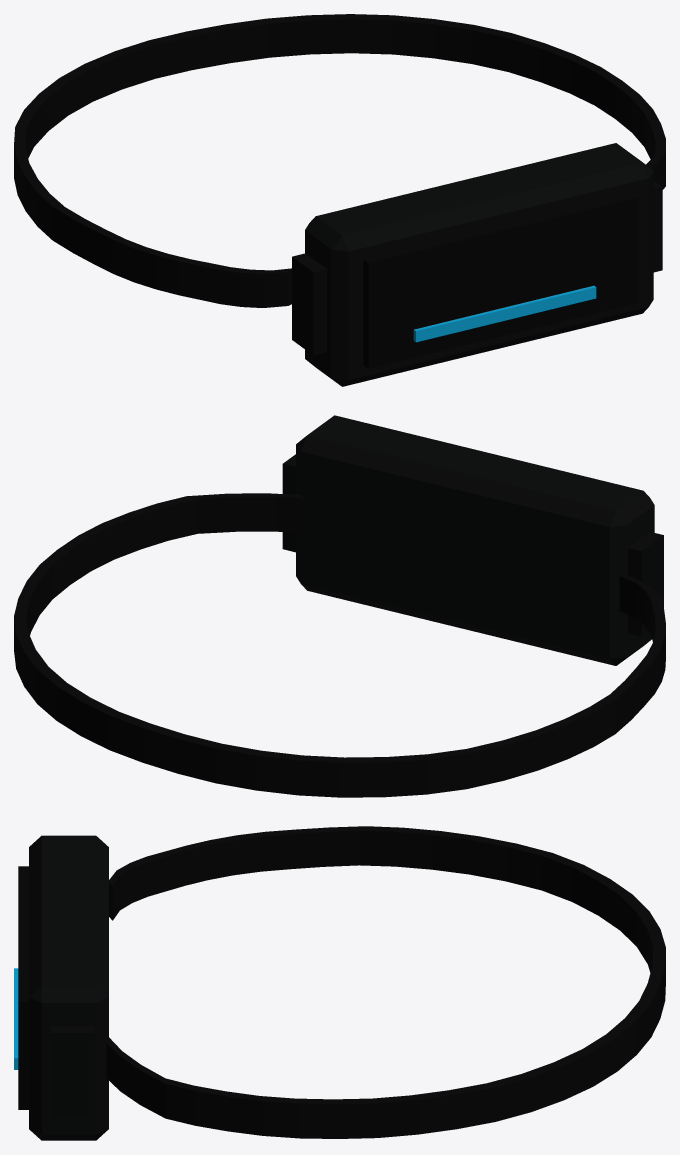
The model's file is eyes_vr_female_hi.glb.
The picture shows the model from 3 angles, top to bottom: view 1: azimuth 30°, elevation 25°; view 2: azimuth 150°, elevation 25°; view 3: azimuth 270°, elevation 25°; orthographic projection. The views are drawn at different scales.
Visible parts, largest first — view 1: eyes_vr_v5_female; view 2: eyes_vr_v5_female; view 3: eyes_vr_v5_female.
Boxes of the visible parts, x1,y1,x2,y2 form: eyes_vr_v5_female: [14, 14, 665, 386]; eyes_vr_v5_female: [14, 415, 665, 797]; eyes_vr_v5_female: [14, 826, 665, 1140].
Bounding box in the file's own units: 0.6166 × 0.1602 × 0.6111.
